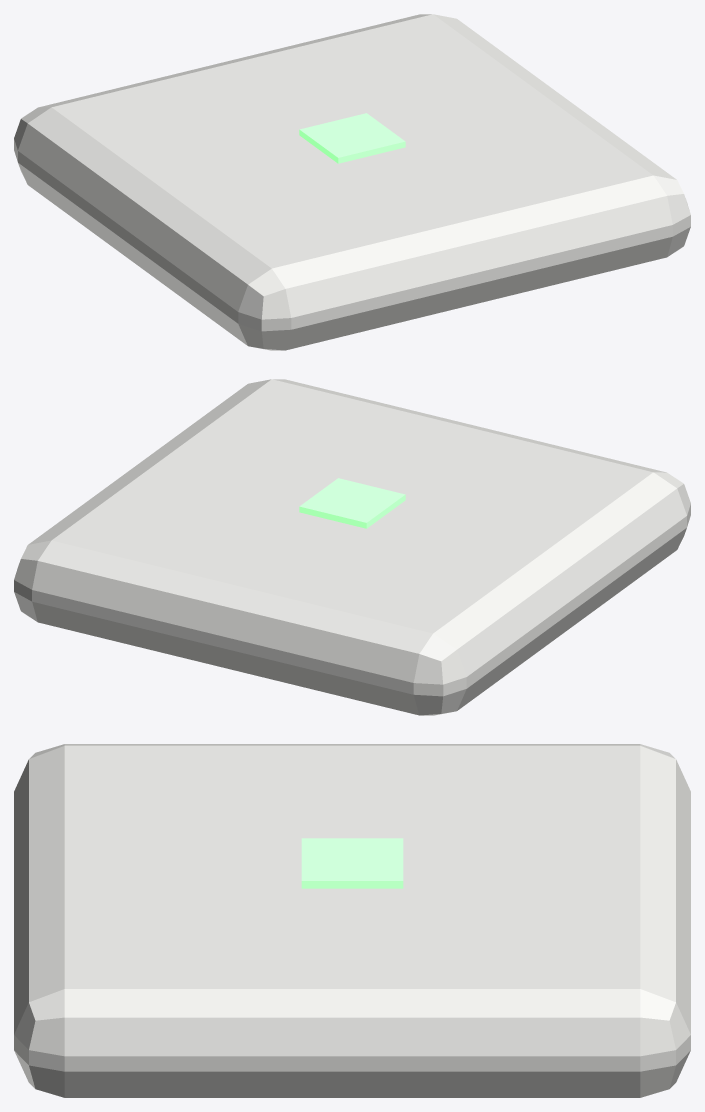
Rendered from wifi_ap.glb.
3 renders of one model, top to bottom at view 1: azimuth 30°, elevation 25°; view 2: azimuth 150°, elevation 25°; view 3: azimuth 270°, elevation 25°, orthographic. The views are drawn at different scales.
Visible parts, largest first — view 1: wifi_ap, wifi_ap_led; view 2: wifi_ap, wifi_ap_led; view 3: wifi_ap, wifi_ap_led.
Part boxes in pixels (x1,y1,x2,y2): wifi_ap: (14, 14, 690, 350); wifi_ap_led: (299, 113, 405, 163); wifi_ap: (14, 379, 690, 715); wifi_ap_led: (299, 478, 405, 528); wifi_ap: (14, 744, 690, 1097); wifi_ap_led: (301, 838, 403, 888).
Bounding box in the file's own units: 0.2 × 0.0375 × 0.2.
2 materials, 1 textured.
